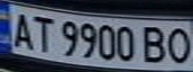0: (115, 22, 142, 63), (97, 23, 118, 62)
9: (54, 18, 81, 56), (75, 20, 100, 60)
A: (6, 10, 36, 51)
B: (139, 24, 172, 64)
O: (163, 25, 193, 65)
T: (27, 14, 57, 53)
